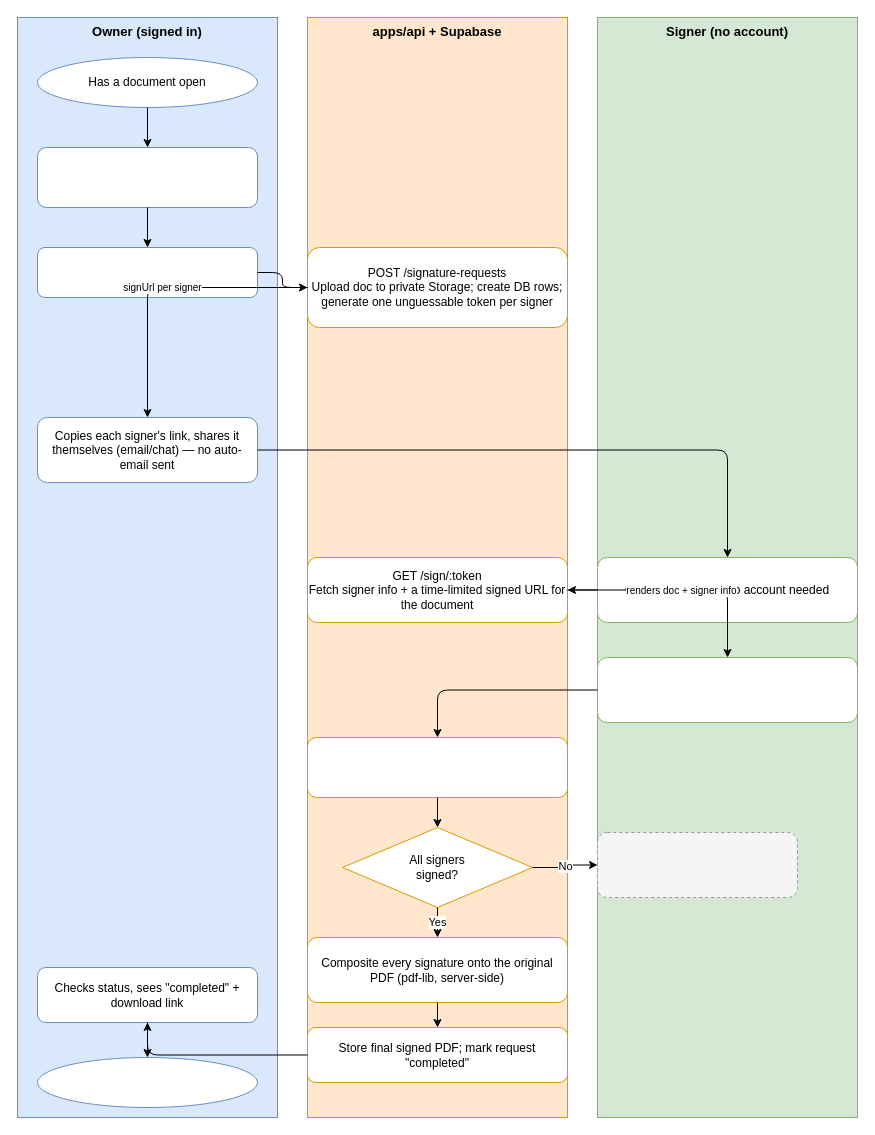
Some shapes in this 875 by 1135 pixel diagram are drawn without their labels. Each missing label, with the centre of its shape:
Click "Request signatures", add signer email(s) + name(s): (147,177)
Click "Send for signature": (147,272)
Downloads the fully-signed PDF: (147,1082)
POST /sign/:token Record signature + IP + timestamp: (437,767)
Request stays "pending" — waits for the remaining signers: (697,865)
Reviews the document, draws/types their signature, clicks "Sign document": (727,689)
